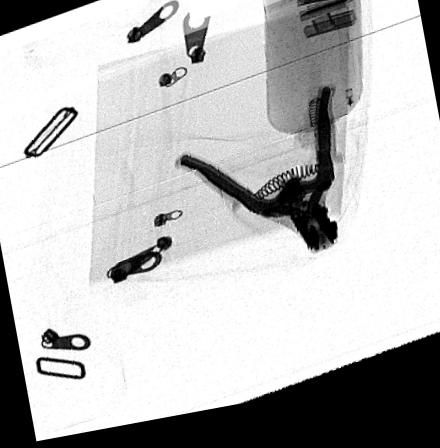Pliers: (179, 97, 338, 262)
